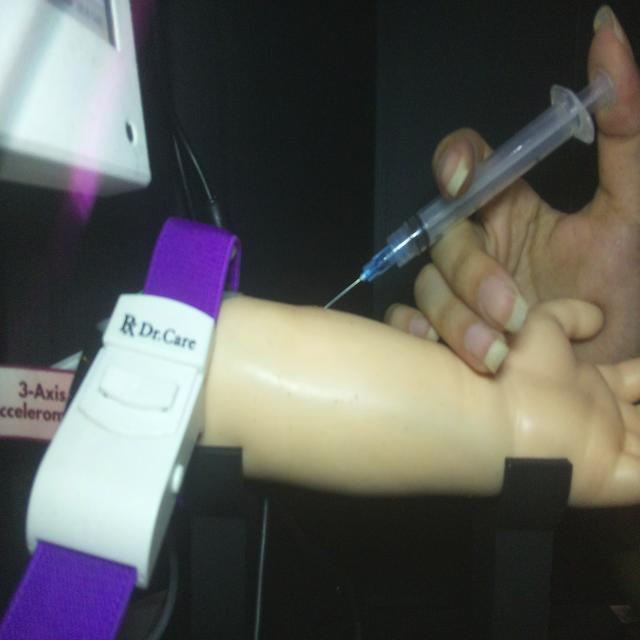28 degrees: (322, 63, 616, 312)
